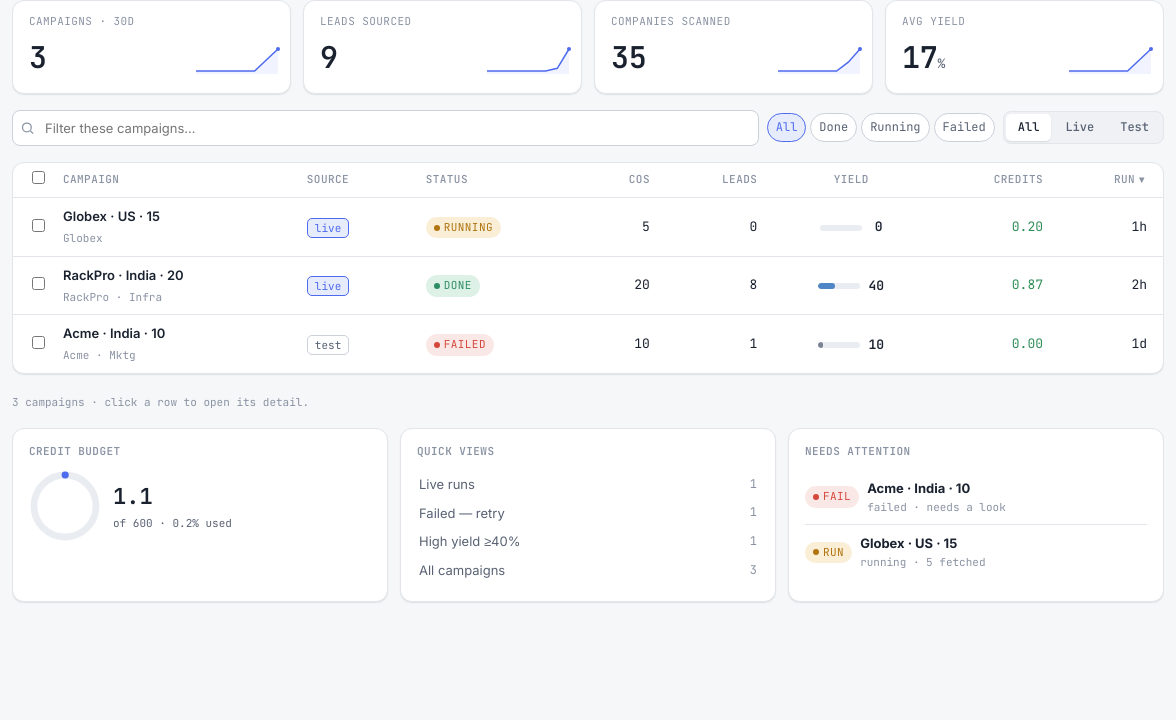
Test: CampaignListView › filters by source via the segmented control
Click the button "Test" at (1135, 128), box [1108,114,1161,141]
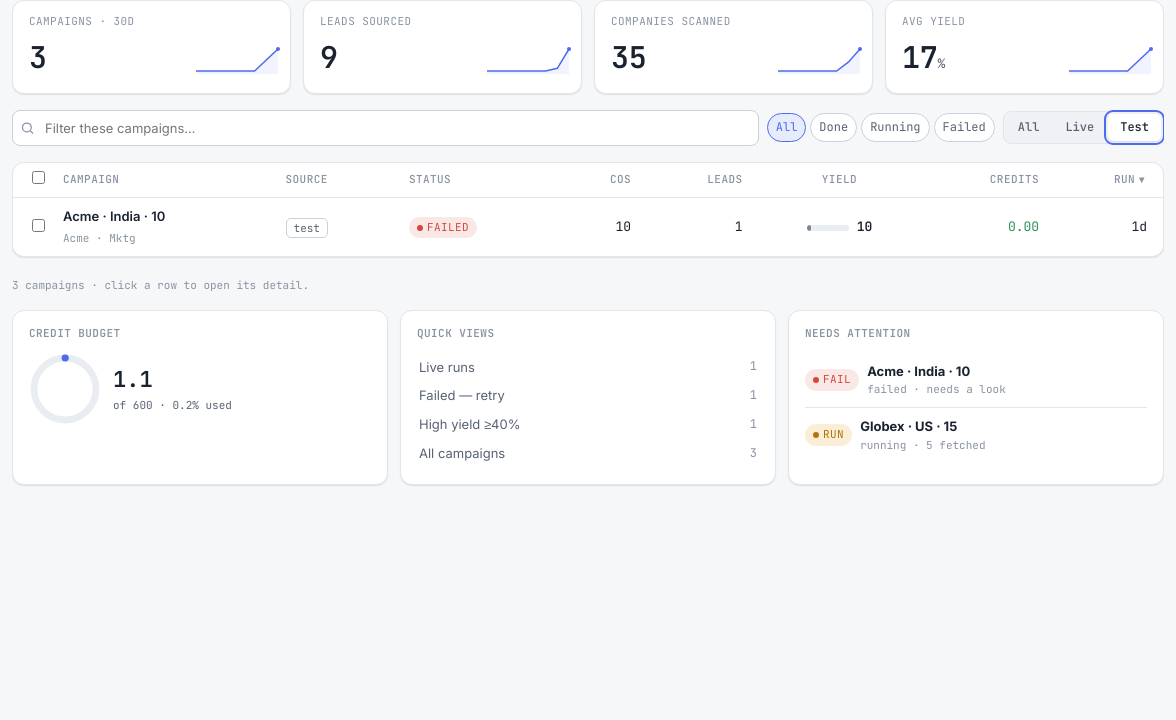
expect the link "Acme · India · 10" is shown: met, box [63,208,165,224]
expect the link "RackPro" is gone: met
